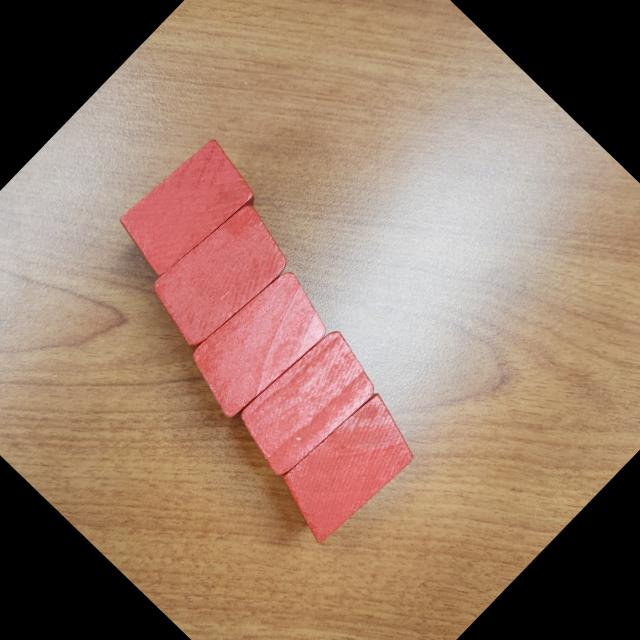red: (173, 261, 341, 430), (224, 320, 390, 488), (265, 384, 430, 551), (138, 194, 302, 358), (109, 130, 268, 290)
